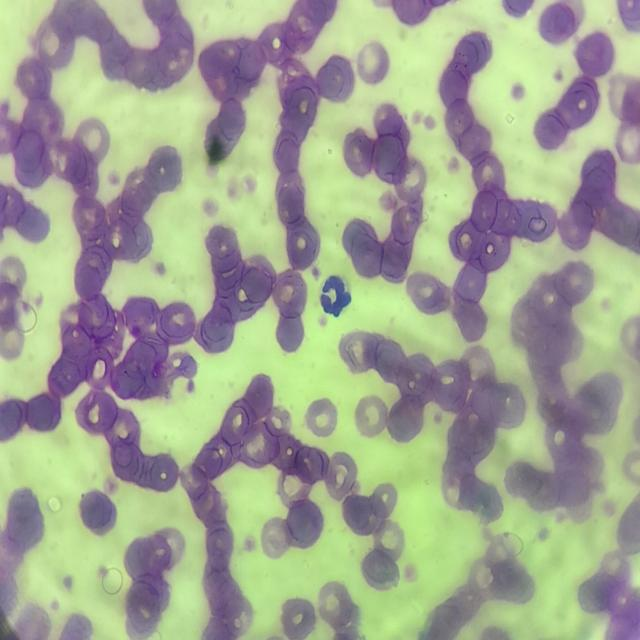Neutrofilo: (318, 270, 352, 316)
